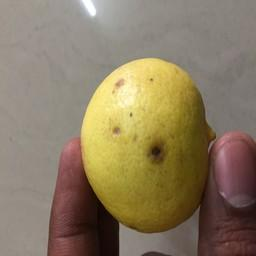Bad_lime: (78, 55, 211, 237)
